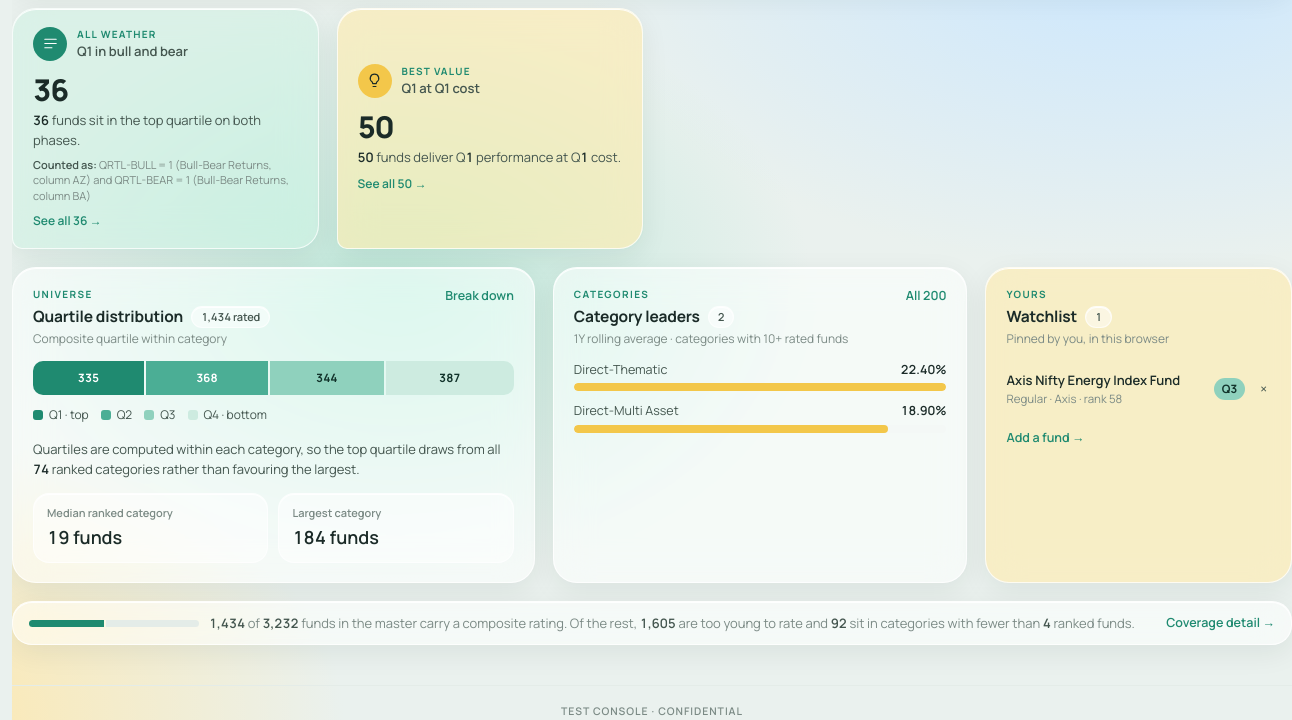
Test: DashboardPage › lists the watchlist with live quartiles
(page scrolled)
Expected: the text "Q3" is shown, [1214, 378, 1245, 400]
Click the button named "Remove Axis Nifty Energy Index Fund from watchlist": (1264, 389) [1256, 382, 1271, 396]
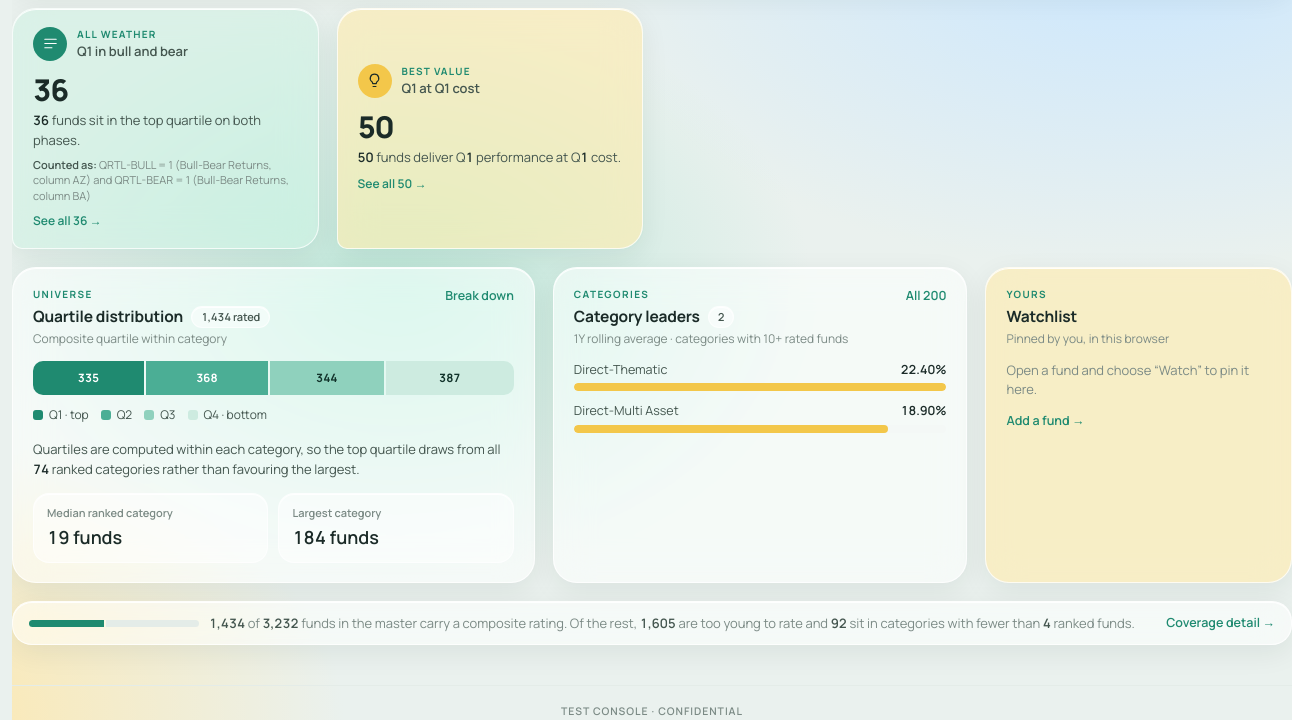
Expected: the text "Open a fund and choose “Watch” to pin it here." is shown, [1006, 361, 1271, 400]
